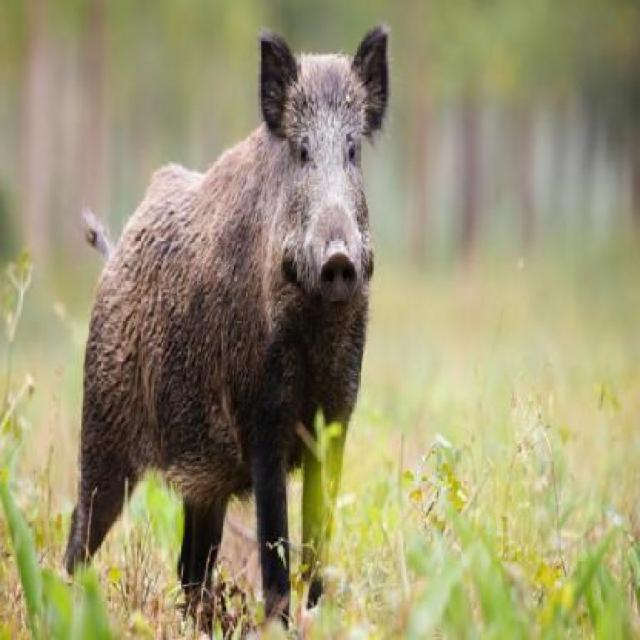Wild Boar: (58, 18, 394, 640)
